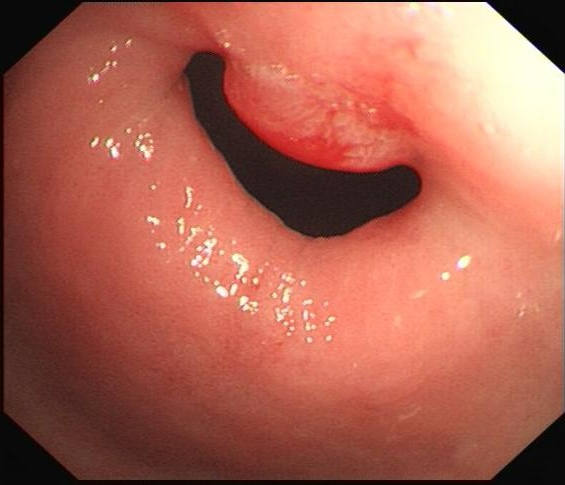Polyp: (210, 44, 425, 180)
